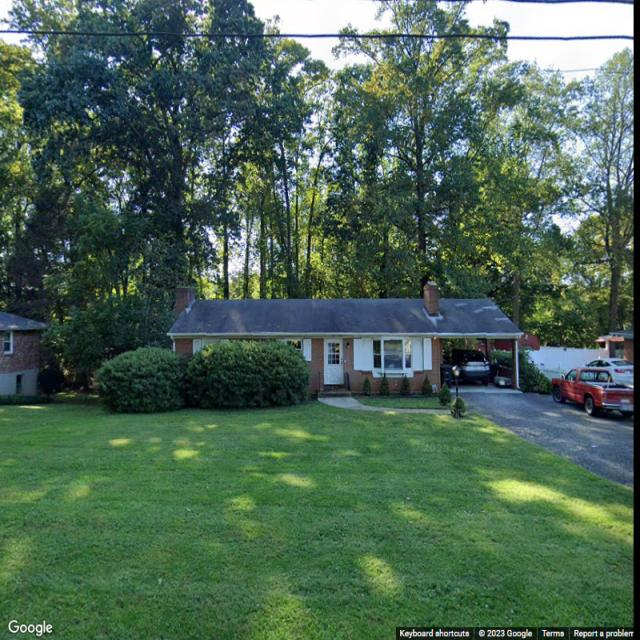House: (166, 282, 524, 396), (0, 304, 43, 405)
